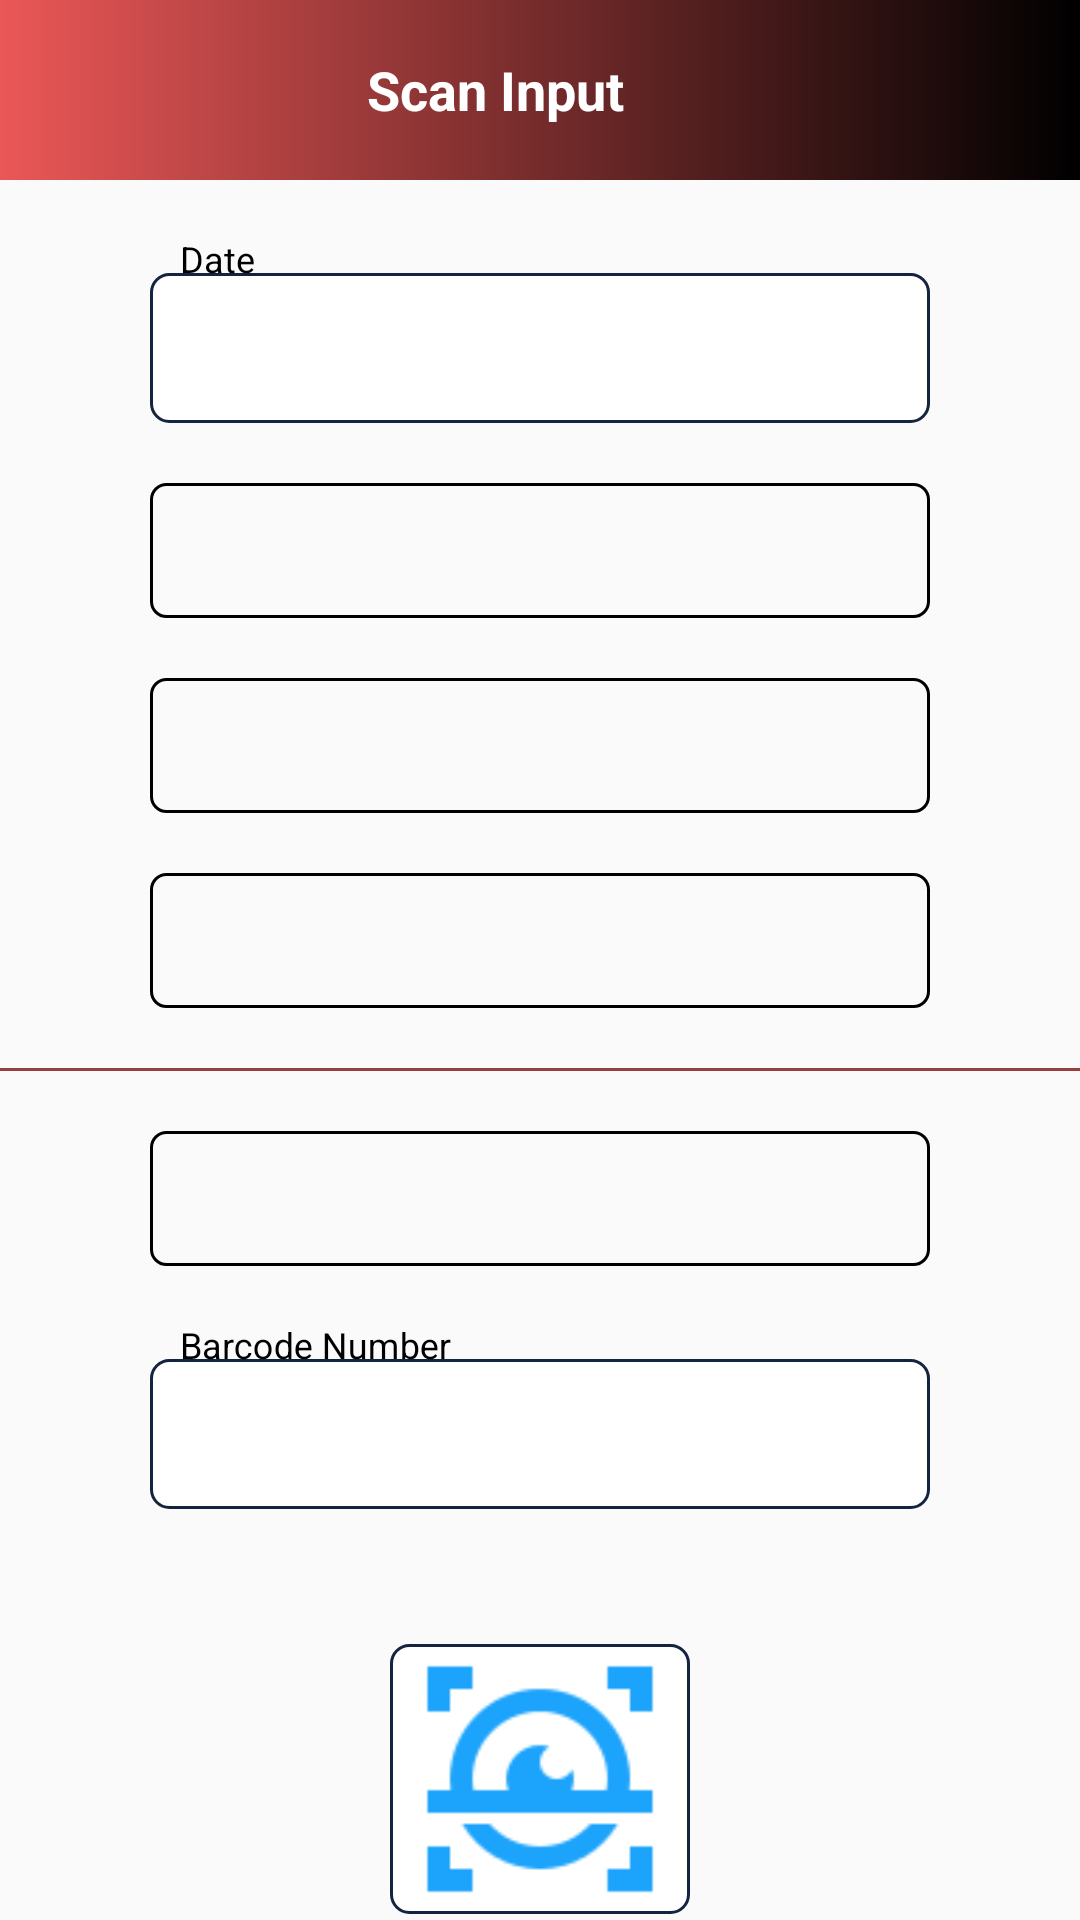

Screen size 1080x1920. Icon name, then its box in pixels as (x1, y1, x2, y2):
scan: (390, 1644, 690, 1914)
